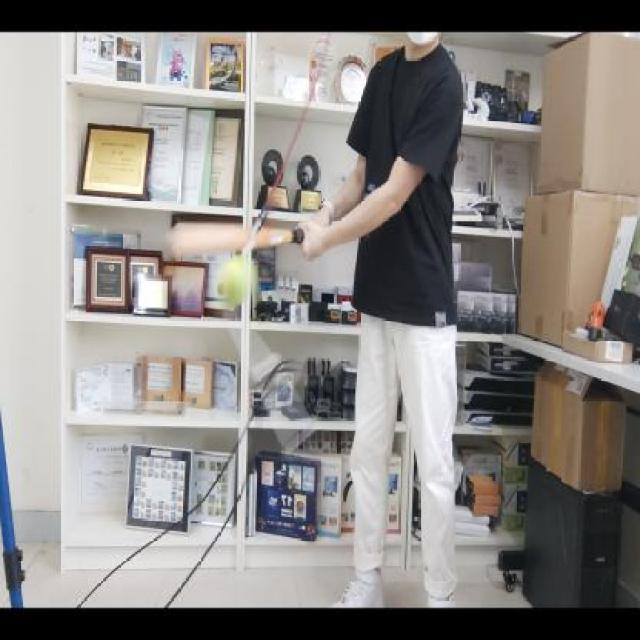baseball: (215, 250, 254, 310)
